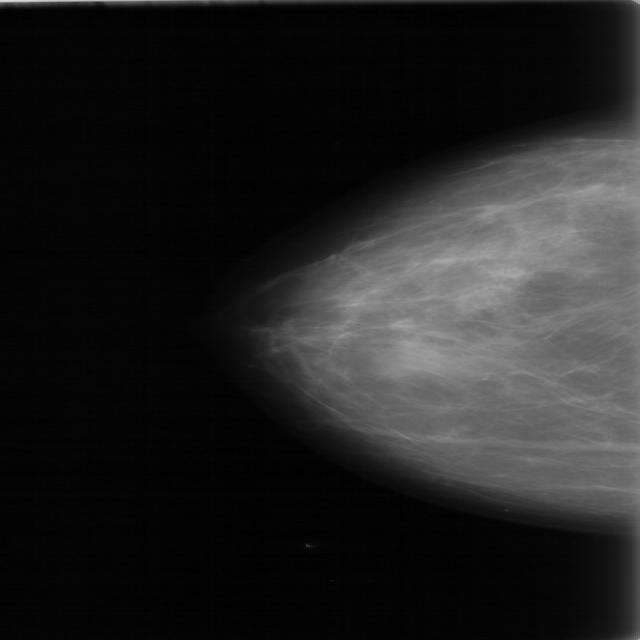tumour: (374, 337, 444, 381)
